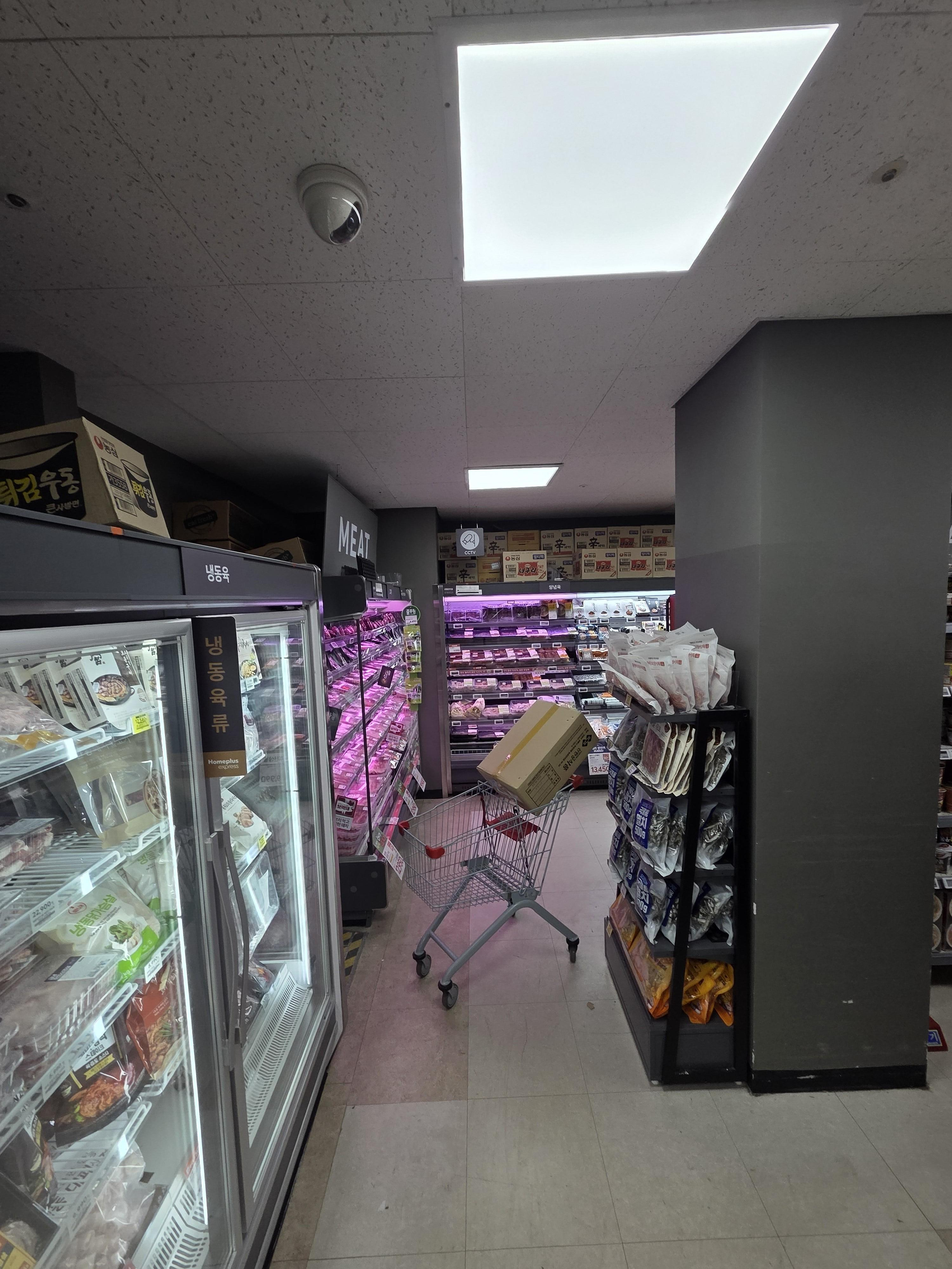fully_cart: (354, 675, 611, 1016)
